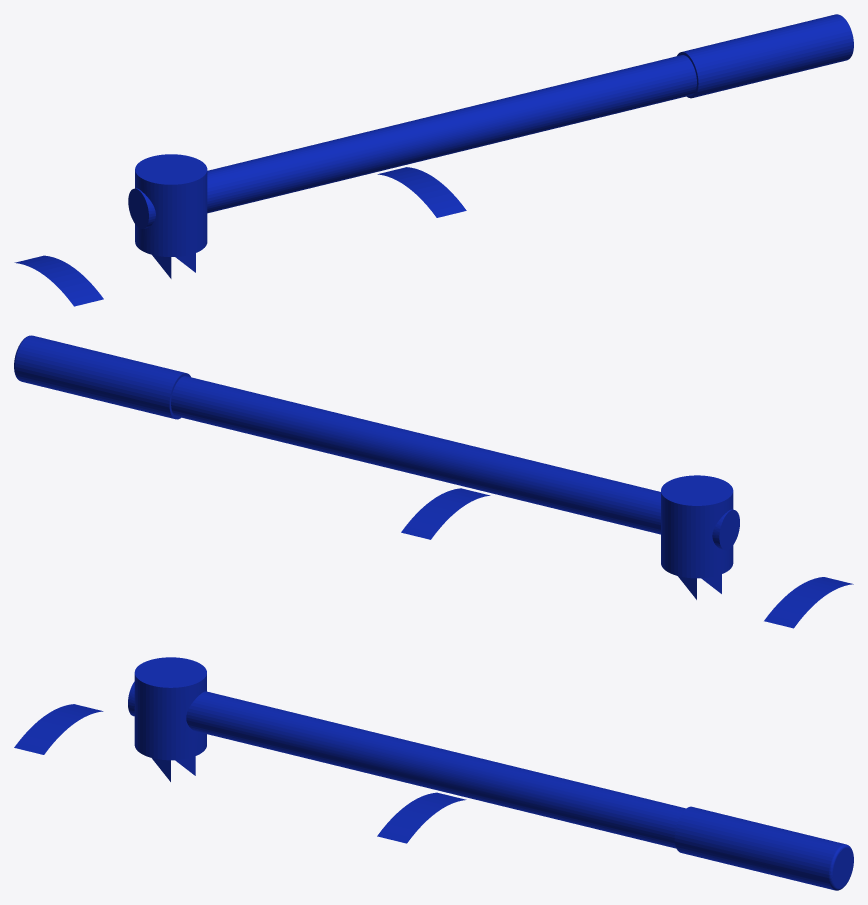
The model's file is lever_bv.glb.
3 renders of one model, top to bottom at view 1: azimuth 30°, elevation 25°; view 2: azimuth 150°, elevation 25°; view 3: azimuth 330°, elevation 25°, orthographic.
Visible parts, largest first — view 1: world; view 2: world; view 3: world.
Part boxes in pixels (bbox=[...]): world: bbox=[14, 14, 853, 306]; world: bbox=[14, 335, 853, 628]; world: bbox=[14, 657, 853, 890].
Size of the model in its own units: 0.3193 by 0.0373 by 0.0416.
Materials: 1 (1 with a texture image).
